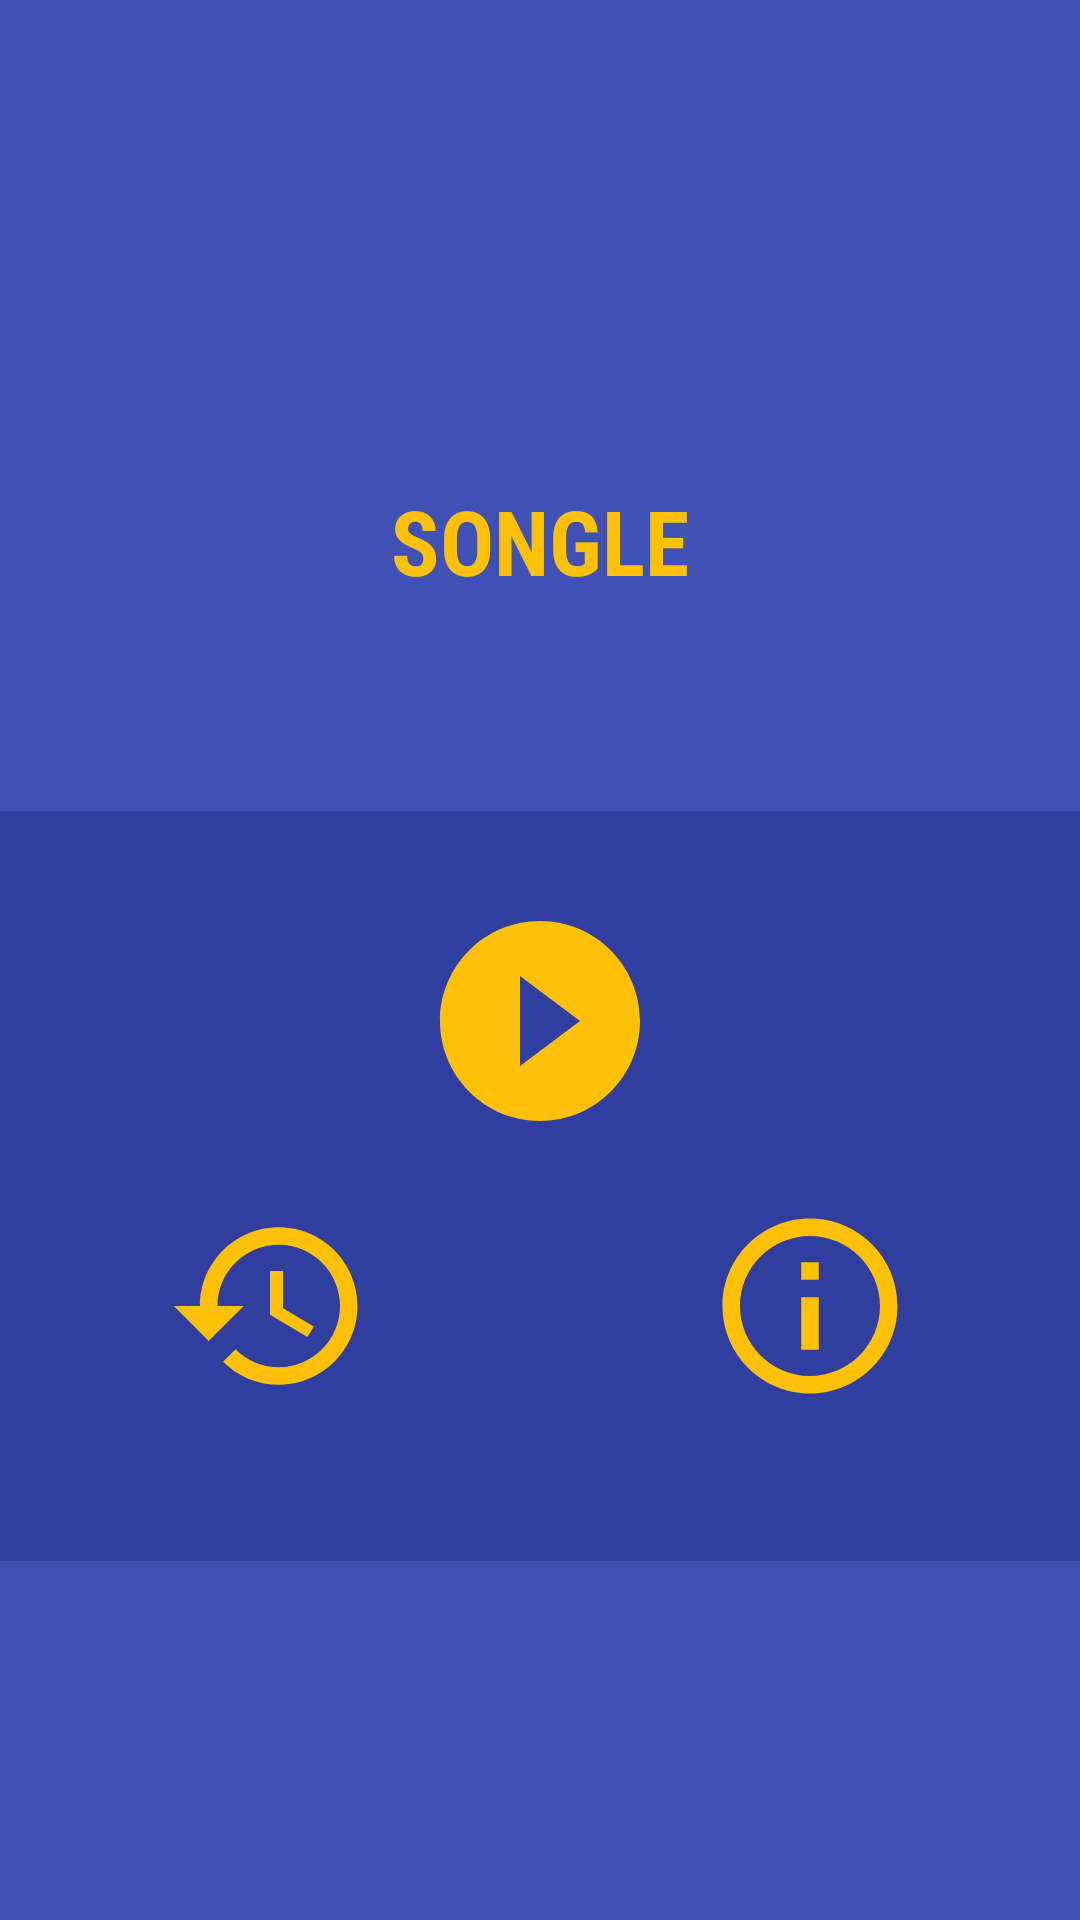

Named icons in this screenshot (1080x1920) and their bounding boxes, (x1, y1, x2, y2):
history: (174, 1227, 358, 1385)
instructions: (722, 1218, 898, 1394)
play: (440, 921, 640, 1121)
